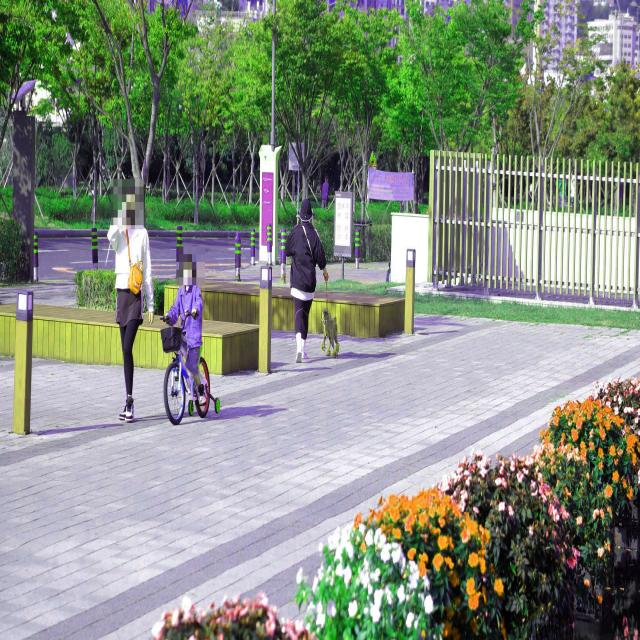Leashed_Dog: (306, 272, 340, 360)
